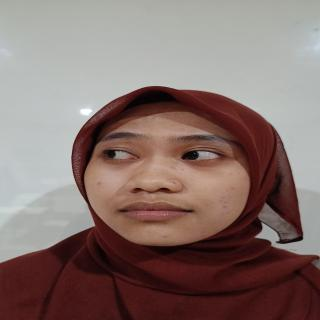Takut: (84, 103, 260, 253)
